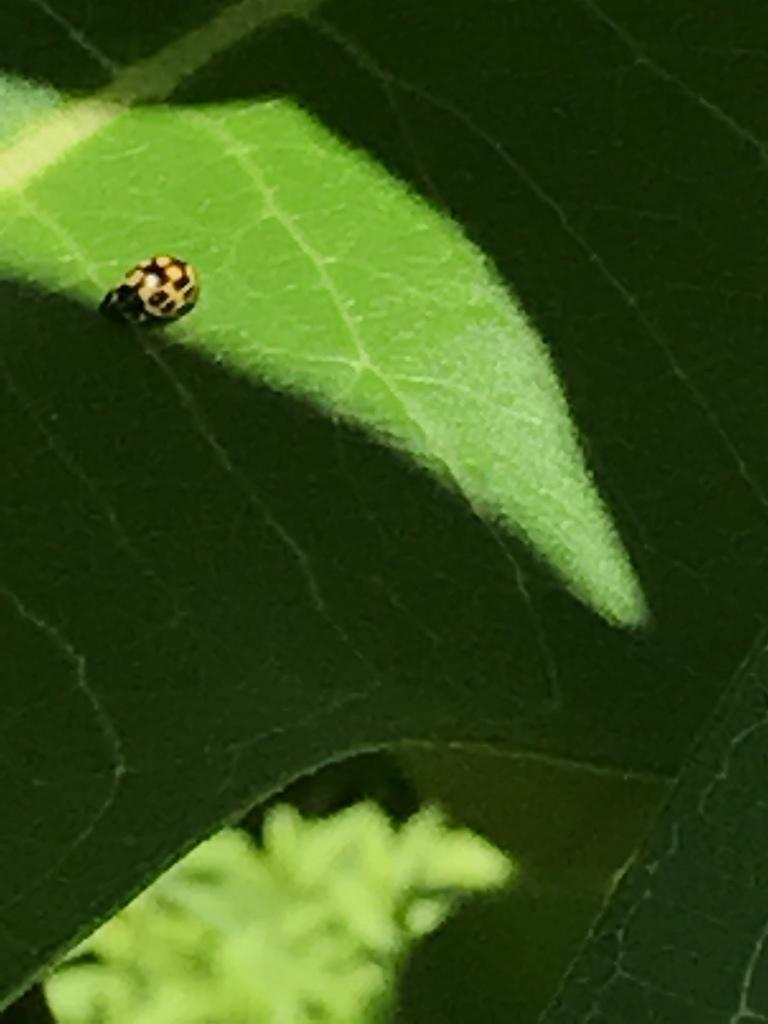ladybug: (100, 253, 201, 332)
